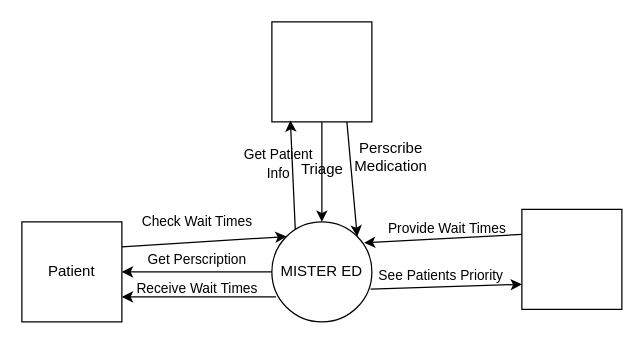
Some shapes in this 644 by 344 pixel diagram are drawn without their labels. Each missing label, with the centre of its shape:
"Emergency Room Receptionist" goes at point (571, 258).
"Healthcare Worker" goes at point (321, 71).
